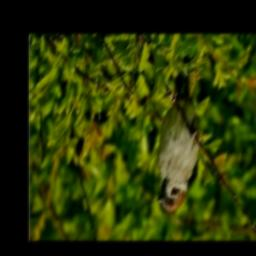Sparrow: (157, 56, 201, 212)
